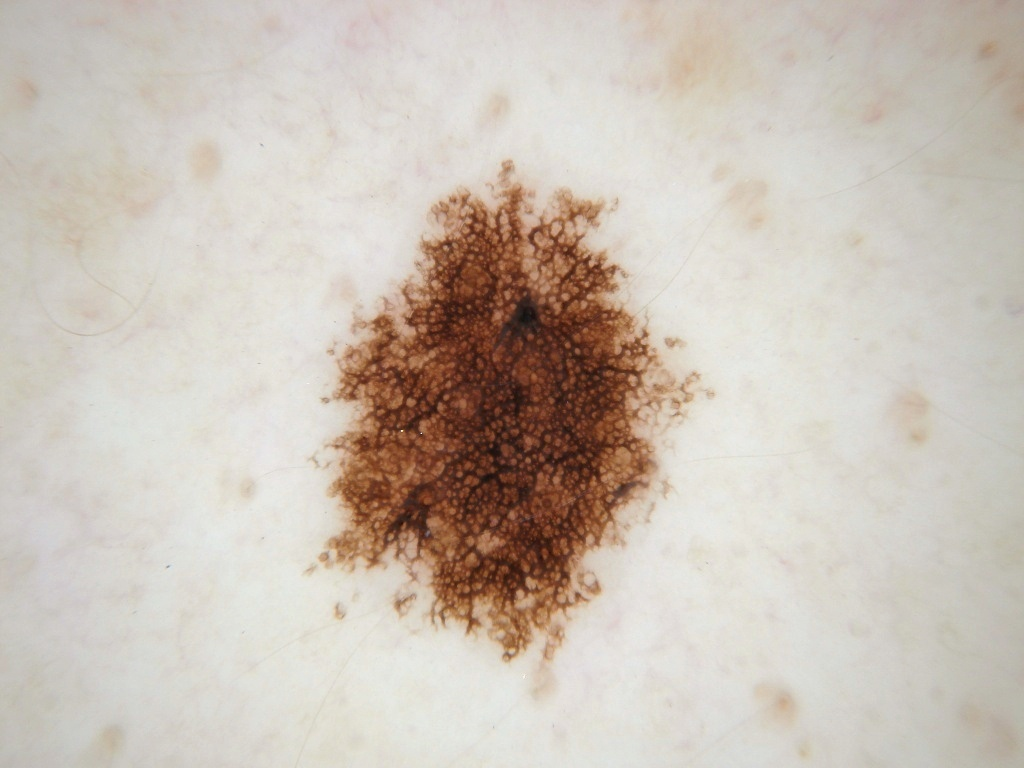Detected Lesion: (301, 147, 704, 678)
